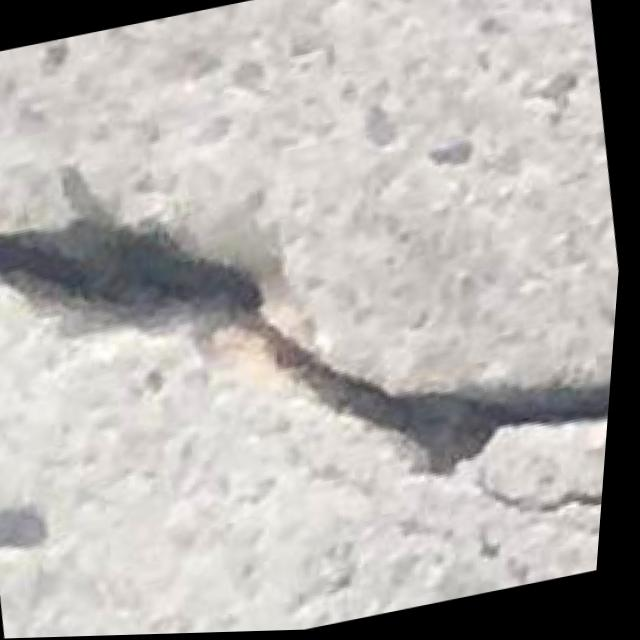Crack: (0, 56, 636, 578)
